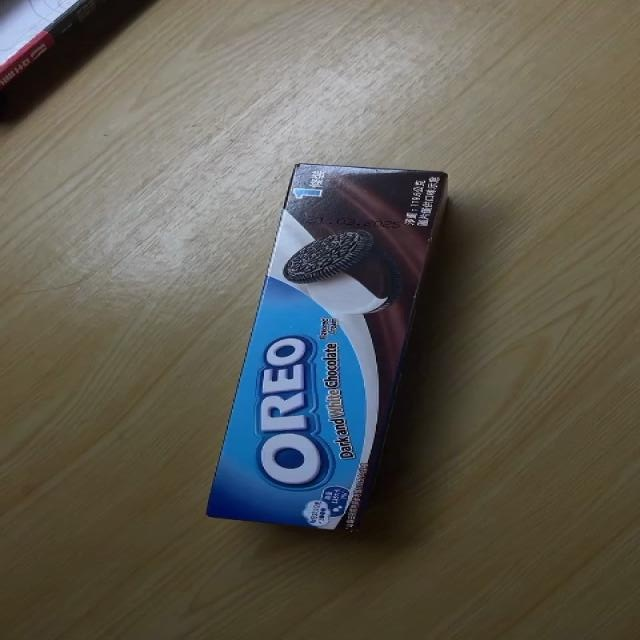Oreo: (205, 163, 456, 536)
